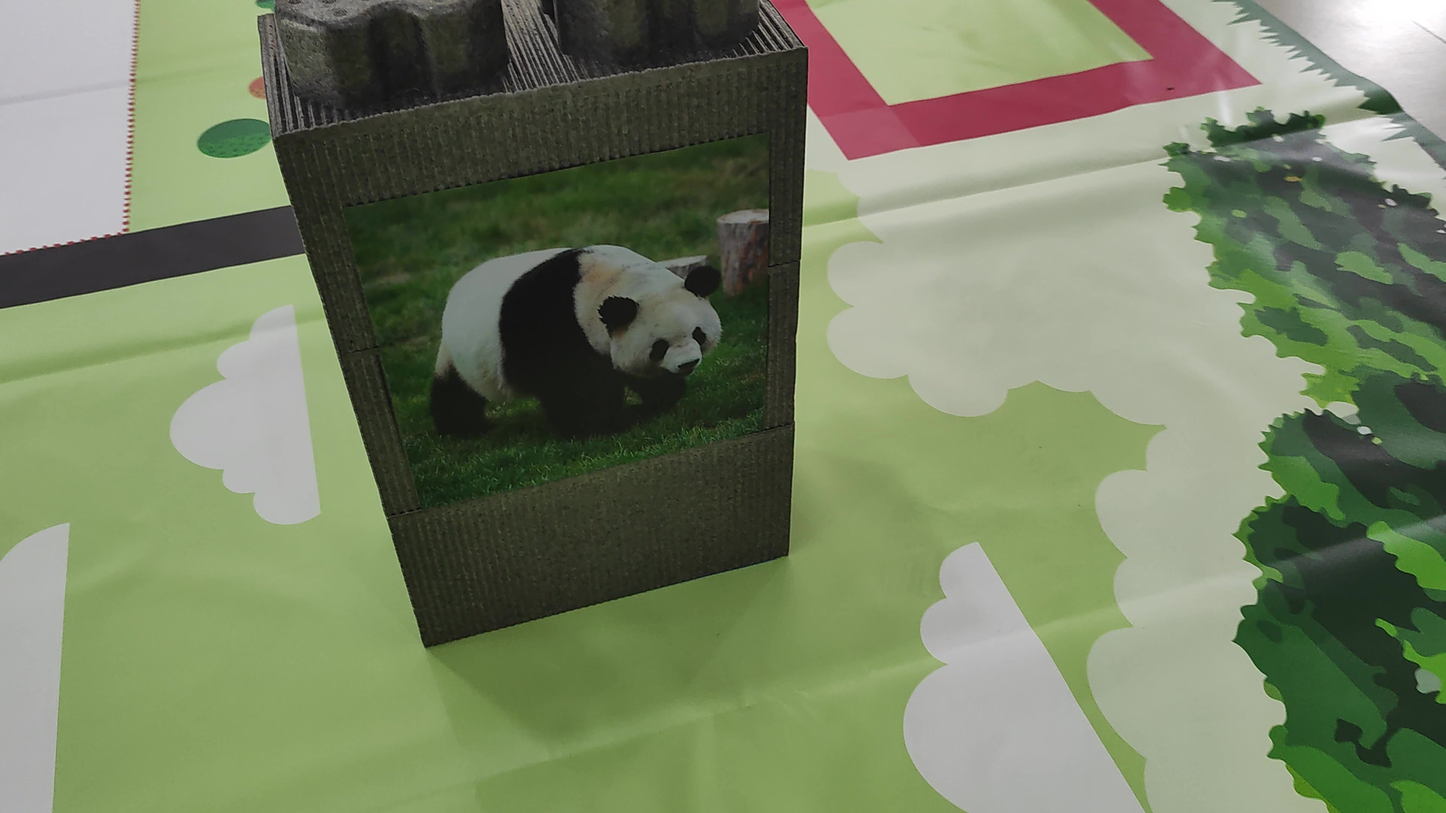panda: (427, 212, 728, 454)
